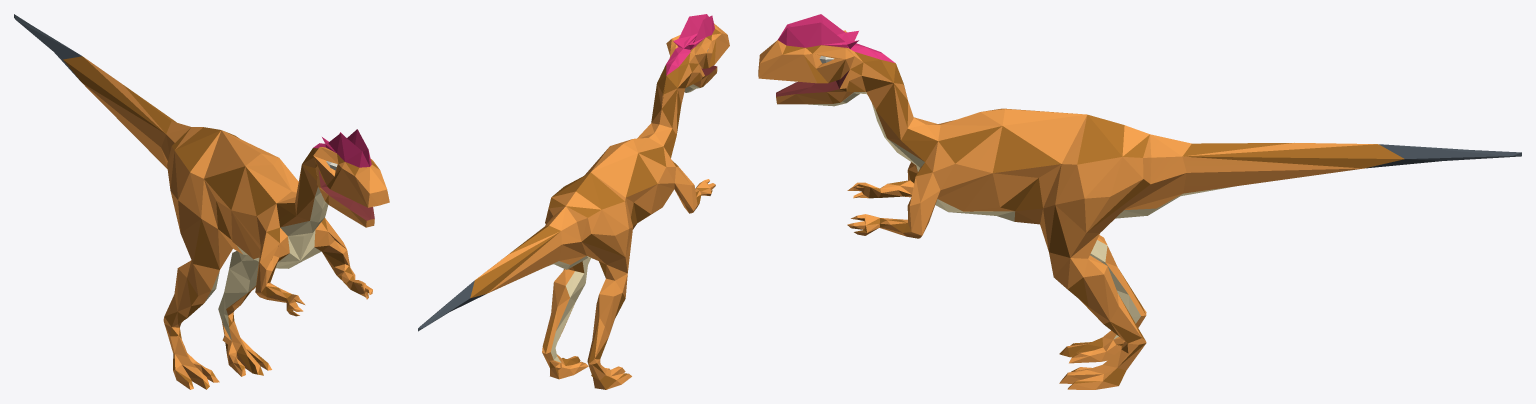
The model's file is RW_LP_DN_Dilophosaurus.fbx.
The picture shows the model from 3 angles, left to right: view 1: azimuth 30°, elevation 25°; view 2: azimuth 150°, elevation 25°; view 3: azimuth 270°, elevation 25°; orthographic projection. The views are drawn at different scales.
Visible parts, largest first — view 1: RW_LP_DN_Dilophosaurus.003; view 2: RW_LP_DN_Dilophosaurus.003; view 3: RW_LP_DN_Dilophosaurus.003.
Part boxes in pixels (bbox=[...]): RW_LP_DN_Dilophosaurus.003: bbox=[14, 14, 389, 389]; RW_LP_DN_Dilophosaurus.003: bbox=[418, 14, 729, 389]; RW_LP_DN_Dilophosaurus.003: bbox=[758, 14, 1521, 389].
Bounding box in the file's own units: 1.27 × 4.46 × 8.81.
